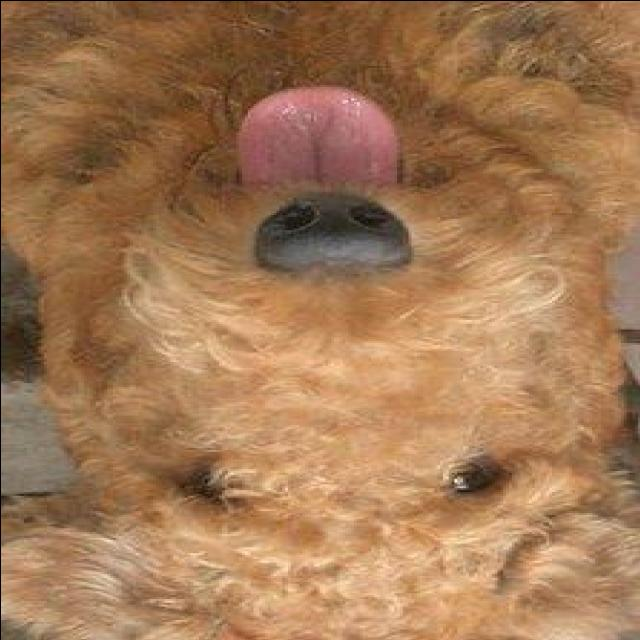airedale: (3, 2, 637, 636)
